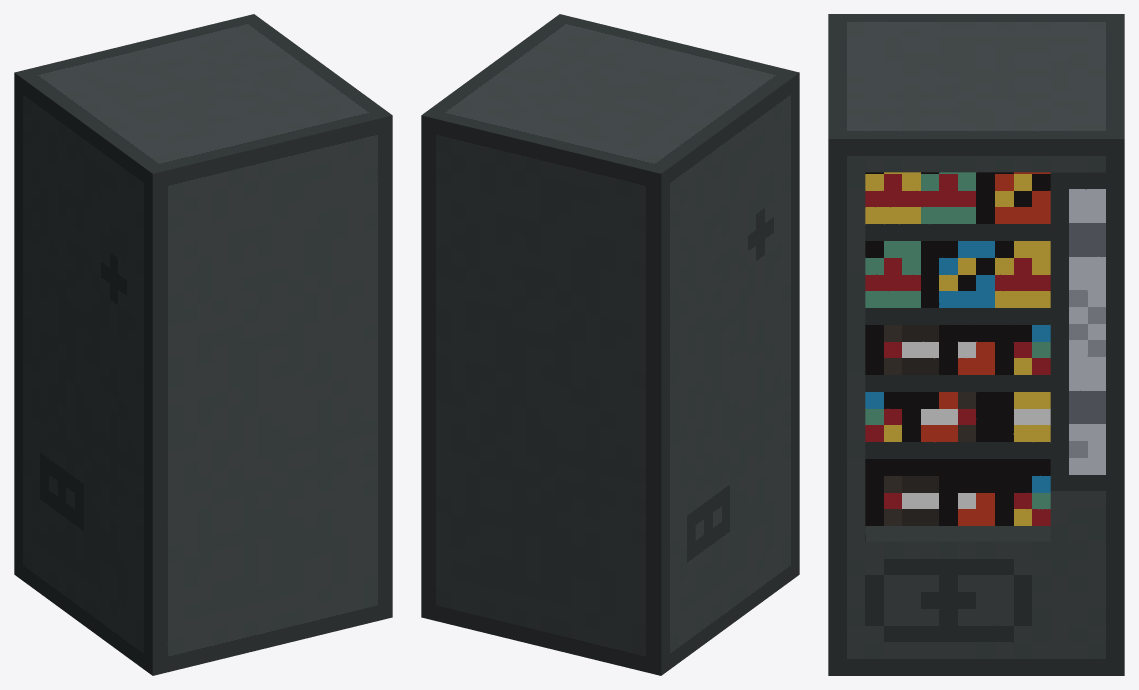
The model's file is vending_machine.fbx.
The picture shows the model from 3 angles, left to right: view 1: azimuth 30°, elevation 25°; view 2: azimuth 150°, elevation 25°; view 3: azimuth 270°, elevation 25°; orthographic projection. The views are drawn at different scales.
Parts seen in each view (by area): view 1: Cube; view 2: Cube; view 3: Cube.
Boxes of the visible parts, <box> form: Cube: <box>14,14,392,675</box>; Cube: <box>421,14,799,675</box>; Cube: <box>828,14,1124,675</box>.
Bounding box in the file's own units: 1600 × 3200 × 1600.
